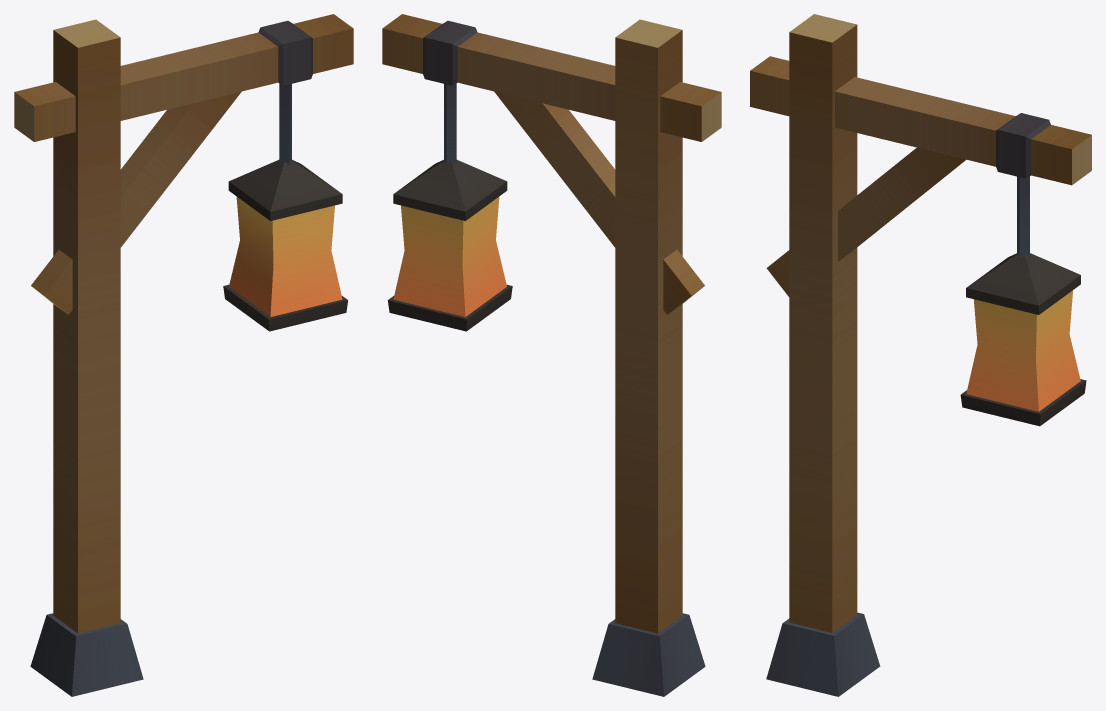
File: Lamp_2_LOD1.fbx
3 renders of one model, left to right at view 1: azimuth 30°, elevation 25°; view 2: azimuth 150°, elevation 25°; view 3: azimuth 330°, elevation 25°, orthographic.
Visible parts, largest first — view 1: polySurface9695; view 2: polySurface9695; view 3: polySurface9695.
Boxes of the visible parts, x1,y1,x2,y2 form: polySurface9695: (14, 14, 353, 696); polySurface9695: (382, 14, 721, 696); polySurface9695: (750, 14, 1091, 696).
Size of the model in its own units: 187 by 357 by 46.33.
